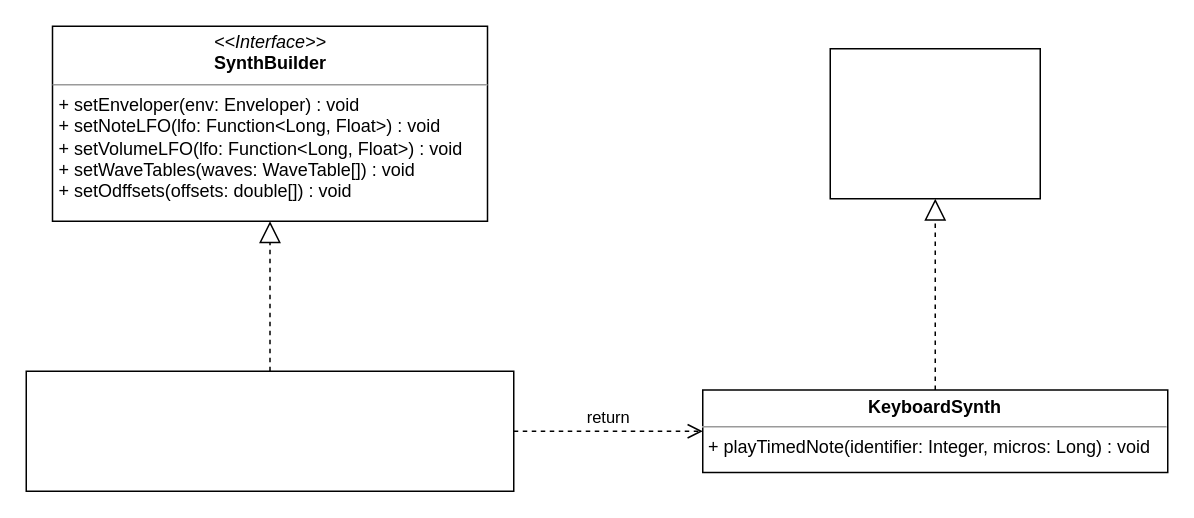
Some shapes in this 1194 by 518 pixel diagram are drawn without their labels. Each missing label, with the centre of its shape:
<<Interface>> Synth + checkKeys() : Integer + getSample() : Float: the point at 934,123
Class + build(freqs: List<Pair<Integer, Long>>) : KeyboardSynth: the point at 269,430
